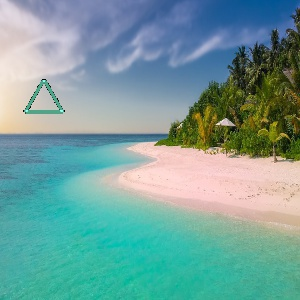triangle: (21, 77, 65, 114)
